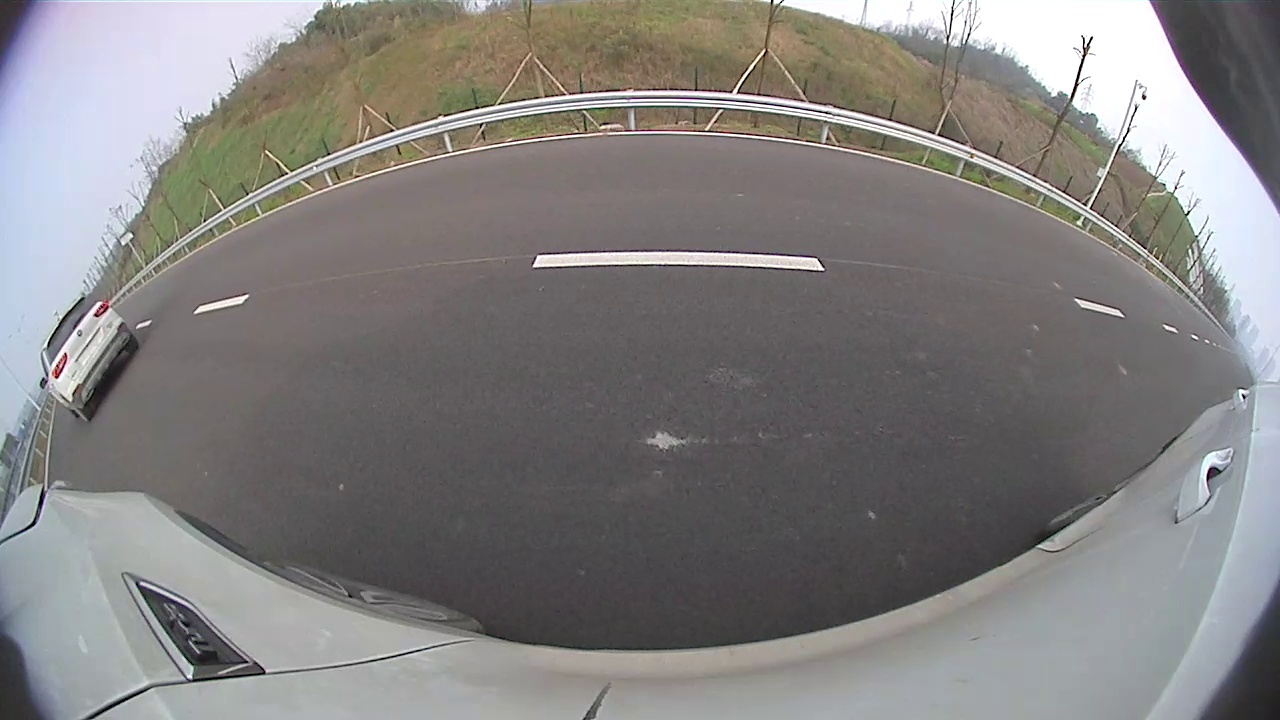car: (1027, 195, 1203, 405)
rear: (1114, 363, 1159, 401)
